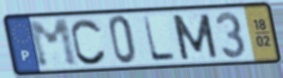0: (107, 13, 141, 66)
3: (214, 9, 248, 61)
C: (70, 17, 109, 67)
L: (141, 15, 178, 64)
M: (25, 17, 81, 70), (169, 12, 221, 62)
